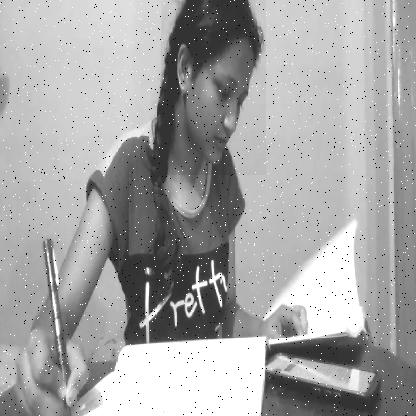Distracted: (161, 0, 266, 175)
